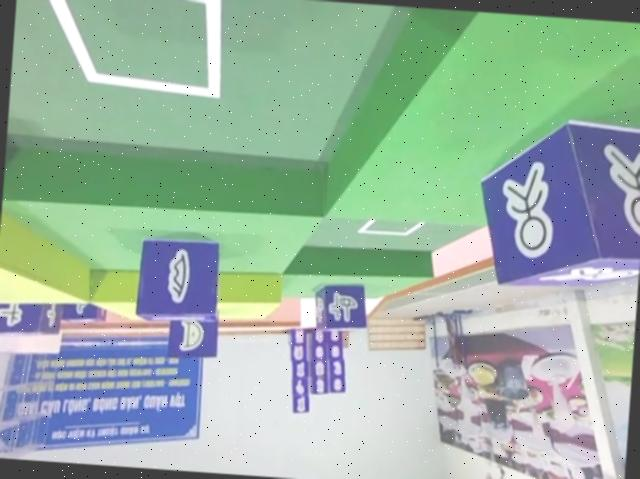R2 Real Blue: (475, 113, 640, 298), (136, 234, 226, 327), (312, 279, 370, 333), (167, 308, 220, 357), (0, 296, 59, 337)
